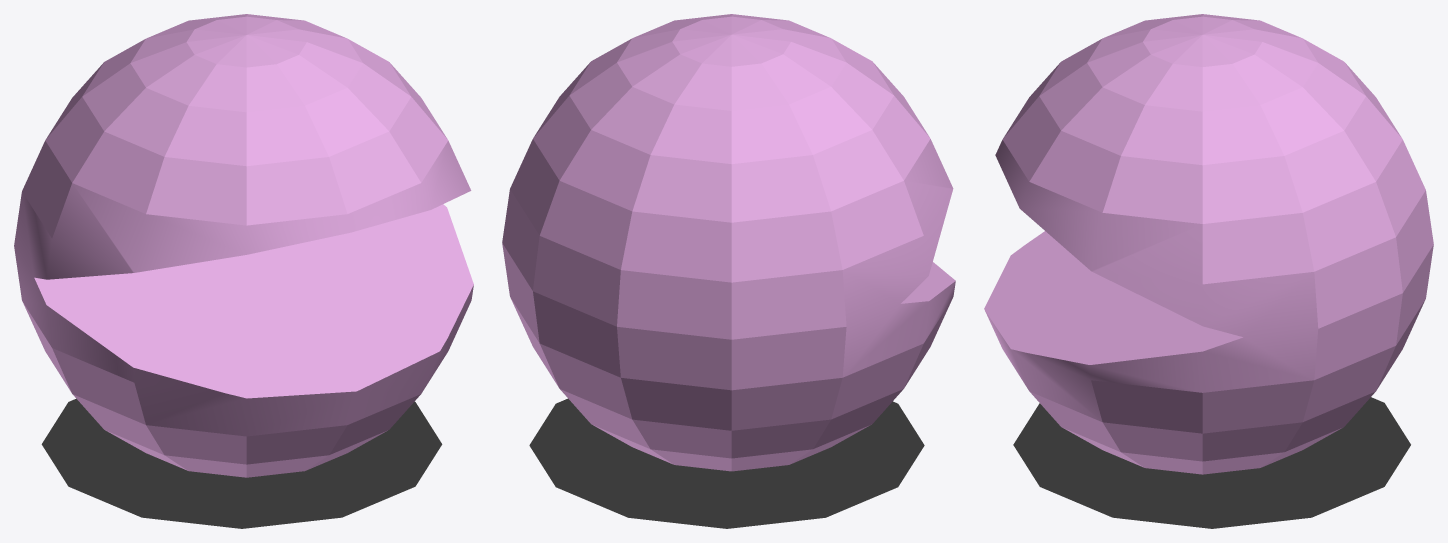
The model's file is EnemyPink.fbx.
3 renders of one model, left to right at view 1: azimuth 30°, elevation 25°; view 2: azimuth 150°, elevation 25°; view 3: azimuth 270°, elevation 25°, orthographic.
Visible parts, largest first — view 1: pSphere2, pCylinder1; view 2: pSphere2, pCylinder1; view 3: pSphere2, pCylinder1.
Boxes of the visible parts, x1,y1,x2,y2 form: pSphere2: (14,14,473,477); pCylinder1: (41,398,442,528); pSphere2: (502,14,955,471); pCylinder1: (529,398,924,528); pSphere2: (984,14,1433,474); pCylinder1: (1013,397,1410,528).
Bounding box in the file's own units: 0.5961 × 0.6 × 0.5836.
